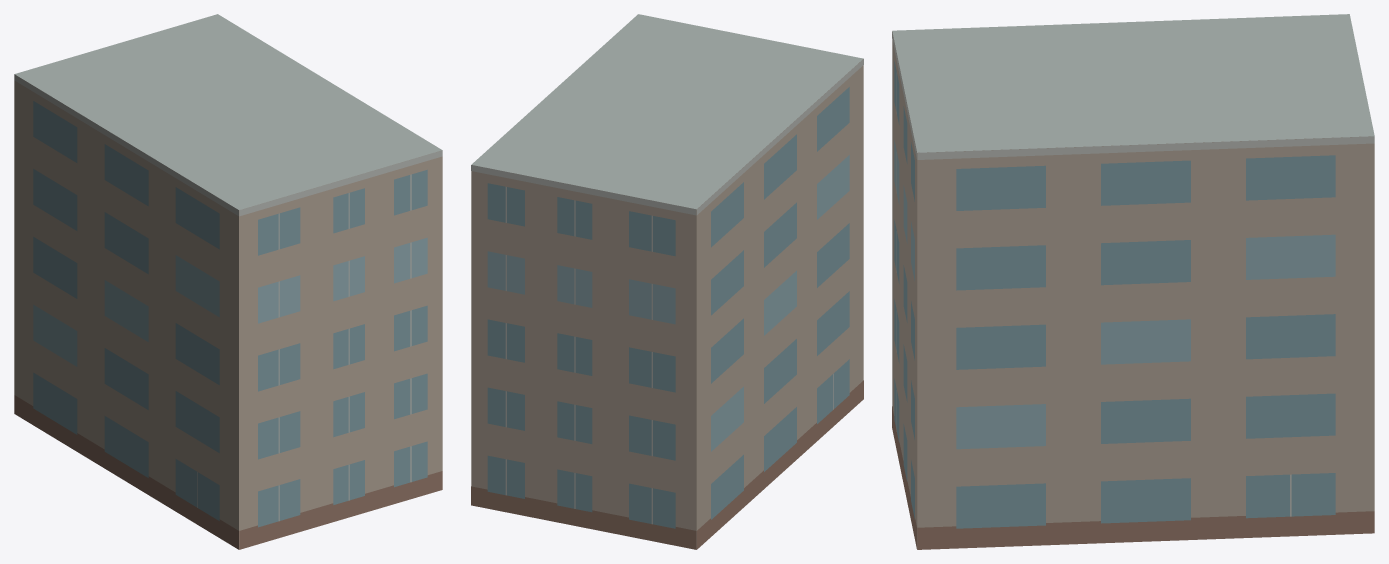
The model's file is survey-upis-32939052.glb.
3 renders of one model, left to right at view 1: azimuth 30°, elevation 25°; view 2: azimuth 150°, elevation 25°; view 3: azimuth 270°, elevation 25°, orthographic. The views are drawn at different scales.
Visible parts, largest first — view 1: survey-upis-32939052.tmp; view 2: survey-upis-32939052.tmp; view 3: survey-upis-32939052.tmp.
Boxes of the visible parts, left/top/right/bottom form: survey-upis-32939052.tmp: left=14, top=14, right=442, bottom=549; survey-upis-32939052.tmp: left=471, top=14, right=863, bottom=549; survey-upis-32939052.tmp: left=892, top=14, right=1374, bottom=549.
Size of the model in its own units: 9.98 by 13.3 by 14.66.
